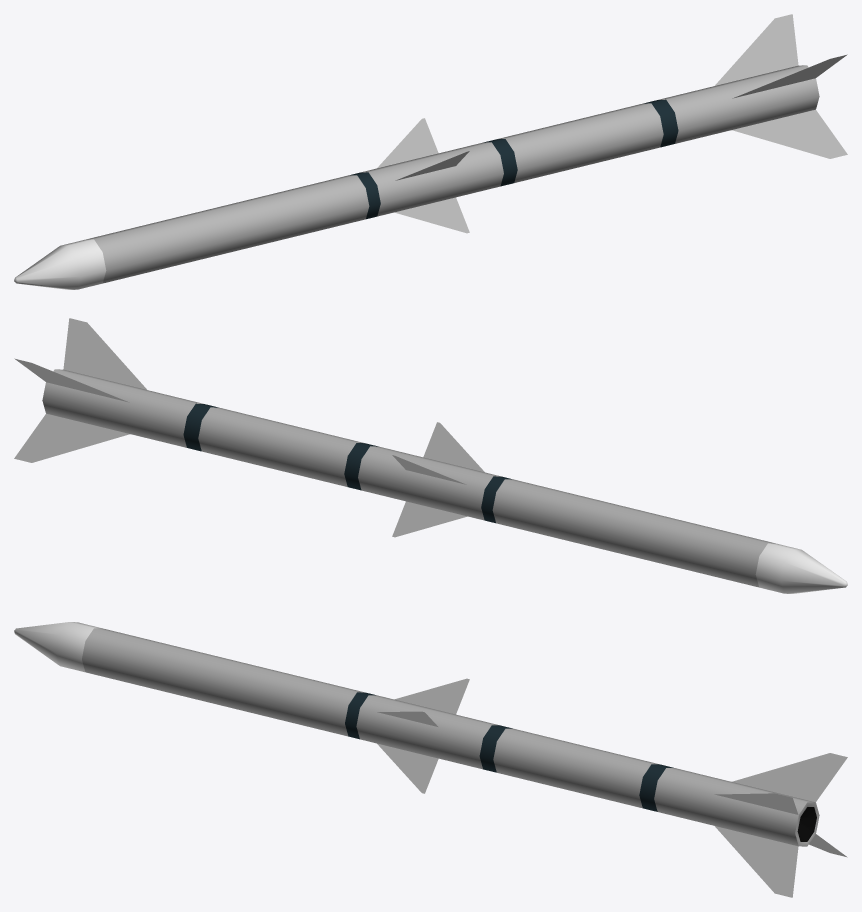
The model's file is rocker 3.fbx.
The picture shows the model from 3 angles, top to bottom: view 1: azimuth 30°, elevation 25°; view 2: azimuth 150°, elevation 25°; view 3: azimuth 330°, elevation 25°; orthographic projection.
Visible parts, largest first — view 1: node_id16 (×3); view 2: node_id16 (×3); view 3: node_id16 (×3).
Boxes of the visible parts, box(x1,y1,x2,y2) form: node_id16 (×3): box(14, 14, 847, 289); node_id16 (×3): box(14, 318, 847, 593); node_id16 (×3): box(14, 622, 847, 897).
Bounding box in the file's own units: 0.1197 × 0.0142 × 0.0142.
